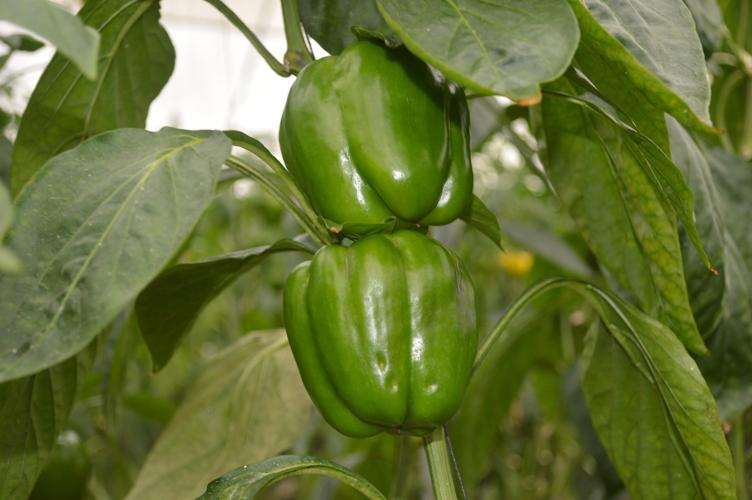BellPepper: (283, 230, 477, 438), (277, 41, 474, 225)
